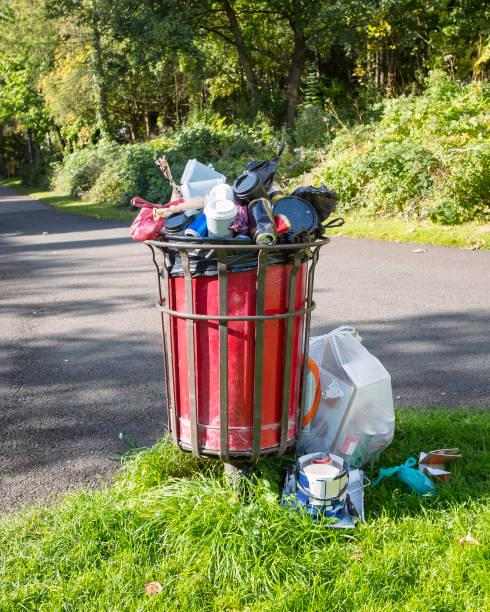trash: (129, 161, 336, 248), (281, 329, 400, 469), (297, 443, 357, 528), (402, 452, 458, 493)
trash_can_overflow: (117, 150, 421, 516)
